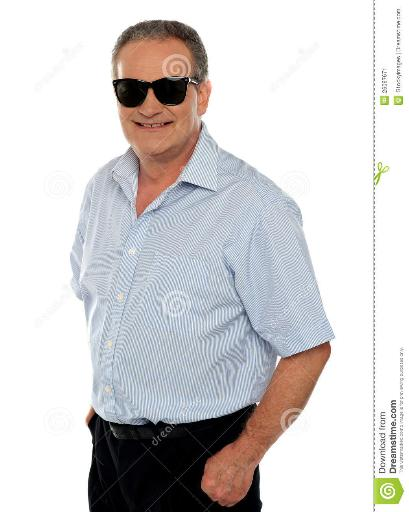left_lip_corner: (165, 120, 177, 128)
right_lip_corner: (132, 120, 141, 128)
